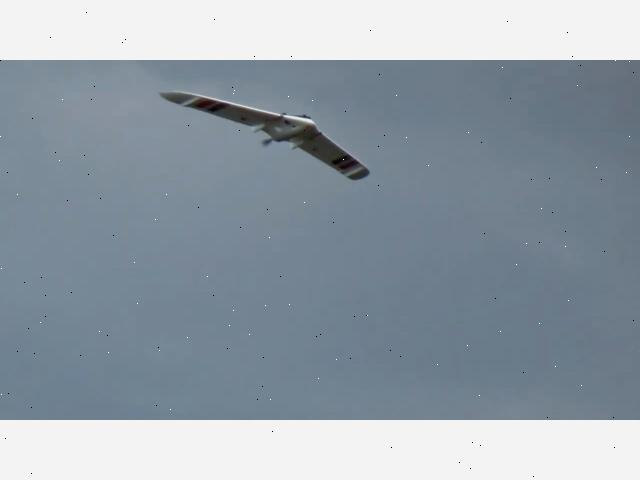Anti-Drone: (154, 88, 370, 182)
